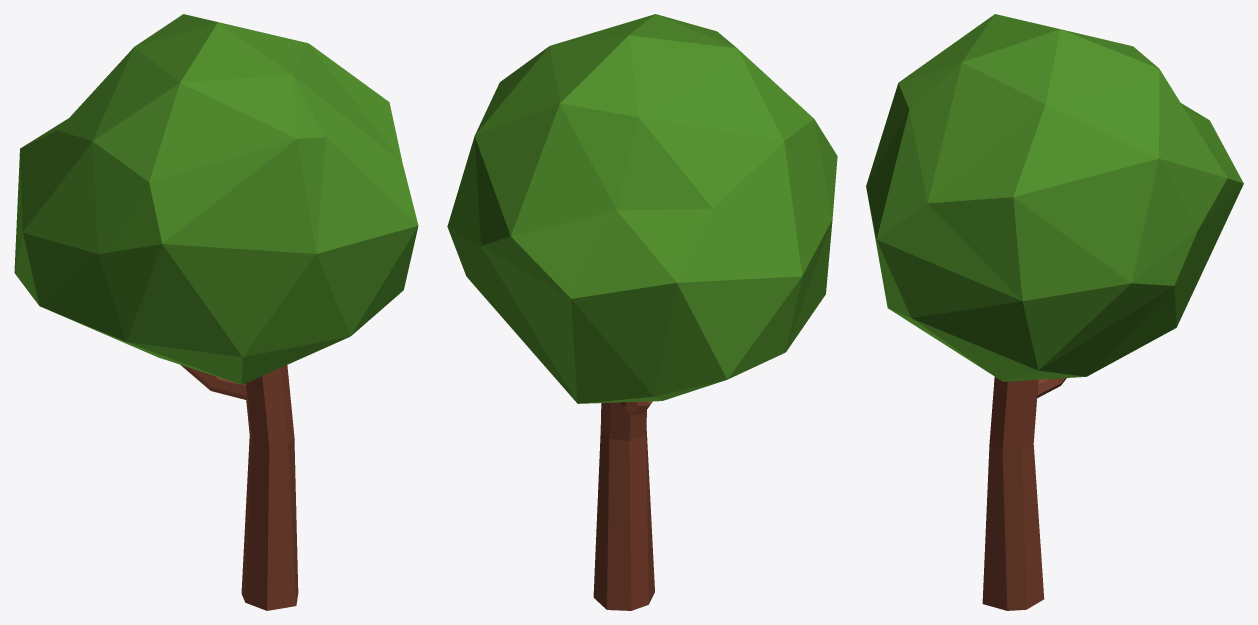
File: TreeSmallRound.fbx
3 views of the same model, side by side, from view 1: azimuth 30°, elevation 25°; view 2: azimuth 150°, elevation 25°; view 3: azimuth 270°, elevation 25° (orthographic). The views are drawn at different scales.
Visible parts, largest first — view 1: fluffTree; view 2: fluffTree; view 3: fluffTree.
Part boxes in pixels (<box>): fluffTree: <box>14,14,418,610</box>; fluffTree: <box>447,14,837,610</box>; fluffTree: <box>866,14,1243,610</box>.
Size of the model in its own units: 1947 by 3074 by 1893.
